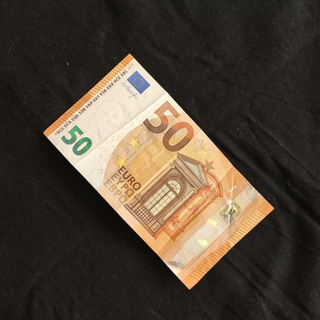50EUROFront: (41, 51, 276, 290)
